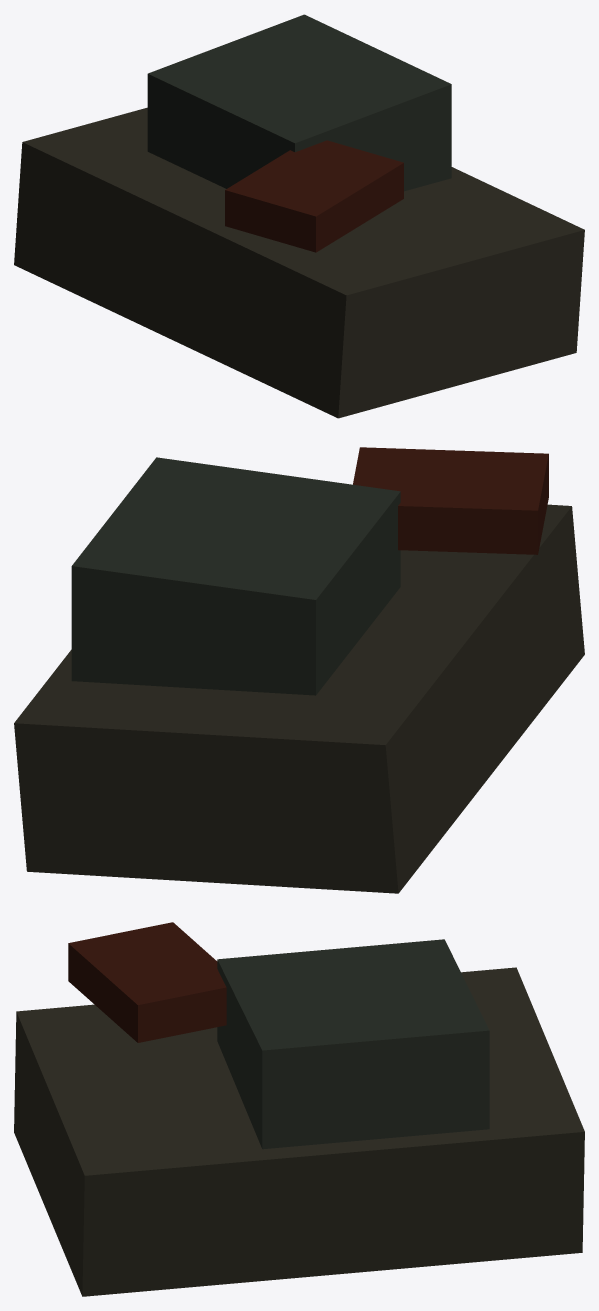
The model's file is prop_wreck.obj.
The picture shows the model from 3 angles, top to bottom: view 1: azimuth 30°, elevation 25°; view 2: azimuth 150°, elevation 25°; view 3: azimuth 270°, elevation 25°; orthographic projection. The views are drawn at different scales.
Parts seen in each view (by area): view 1: MilitaryStructure14; view 2: MilitaryStructure14; view 3: MilitaryStructure14.
Part boxes in pixels (box(x1,y1,x2,y2)): MilitaryStructure14: box(14, 14, 584, 418); MilitaryStructure14: box(14, 447, 584, 893); MilitaryStructure14: box(14, 922, 584, 1296).
Bounding box in the file's own units: 1.91 × 1.07 × 2.46.
